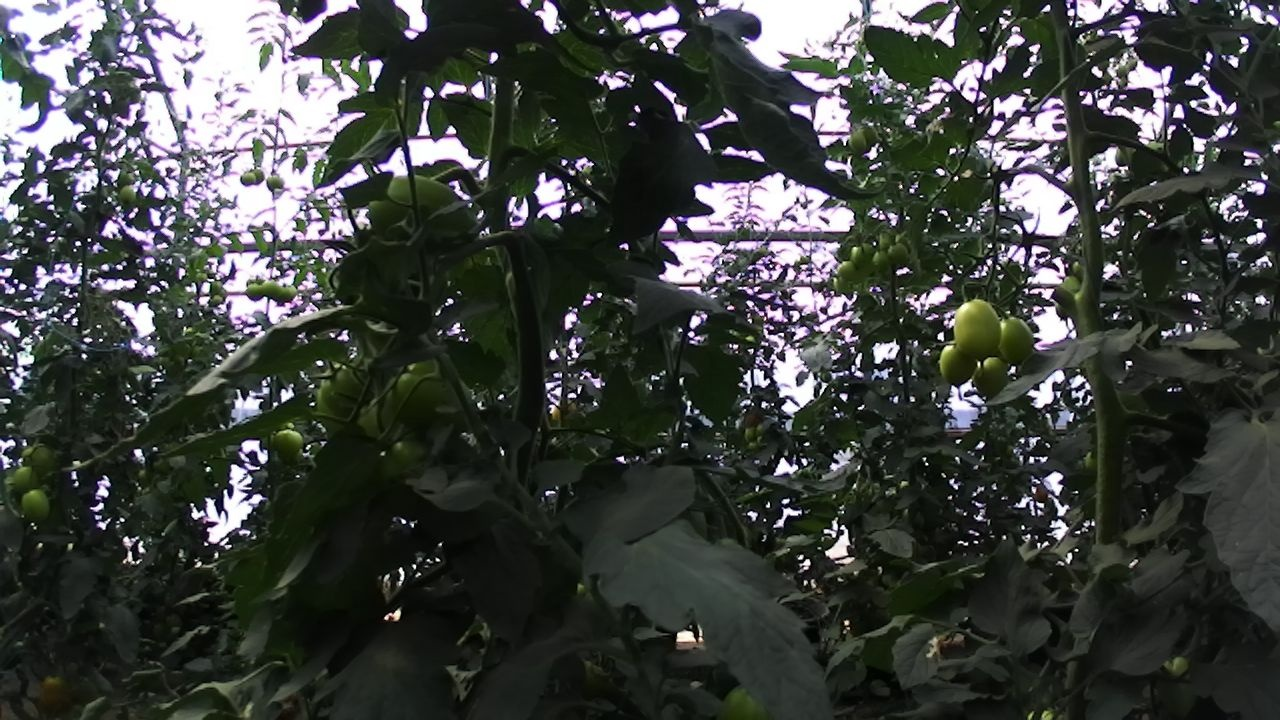tomato: (355, 170, 499, 264), (371, 431, 451, 527), (385, 363, 474, 431), (310, 355, 389, 424), (945, 292, 1012, 368), (989, 306, 1043, 372), (933, 335, 986, 392), (971, 348, 1014, 406), (18, 438, 63, 486), (18, 481, 58, 529), (15, 482, 58, 525), (35, 668, 74, 712), (270, 424, 309, 465), (9, 461, 47, 499), (847, 239, 882, 276), (833, 255, 870, 288), (885, 239, 913, 270), (845, 127, 871, 156), (1030, 478, 1053, 506), (859, 121, 882, 149), (869, 248, 893, 274), (116, 182, 138, 209), (274, 280, 298, 304), (259, 276, 282, 301), (263, 171, 287, 193), (242, 281, 266, 303), (248, 166, 268, 187), (742, 423, 760, 444), (238, 170, 258, 188), (206, 292, 224, 309), (207, 279, 223, 297)
